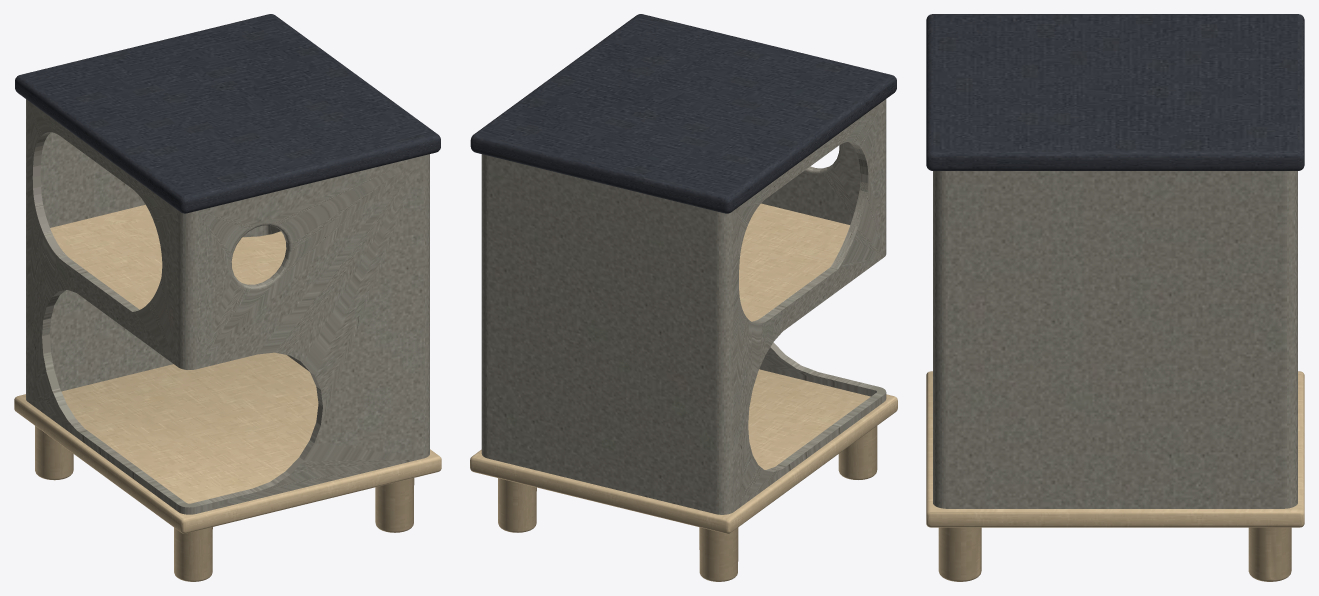
The model's file is small_cabinet_right_gray.glb.
3 views of the same model, side by side, from view 1: azimuth 30°, elevation 25°; view 2: azimuth 150°, elevation 25°; view 3: azimuth 270°, elevation 25° (orthographic). The views are drawn at different scales.
Size of the model in its own units: 12.36 by 17.85 by 13.96.
Materials: 4 (3 with a texture image).
